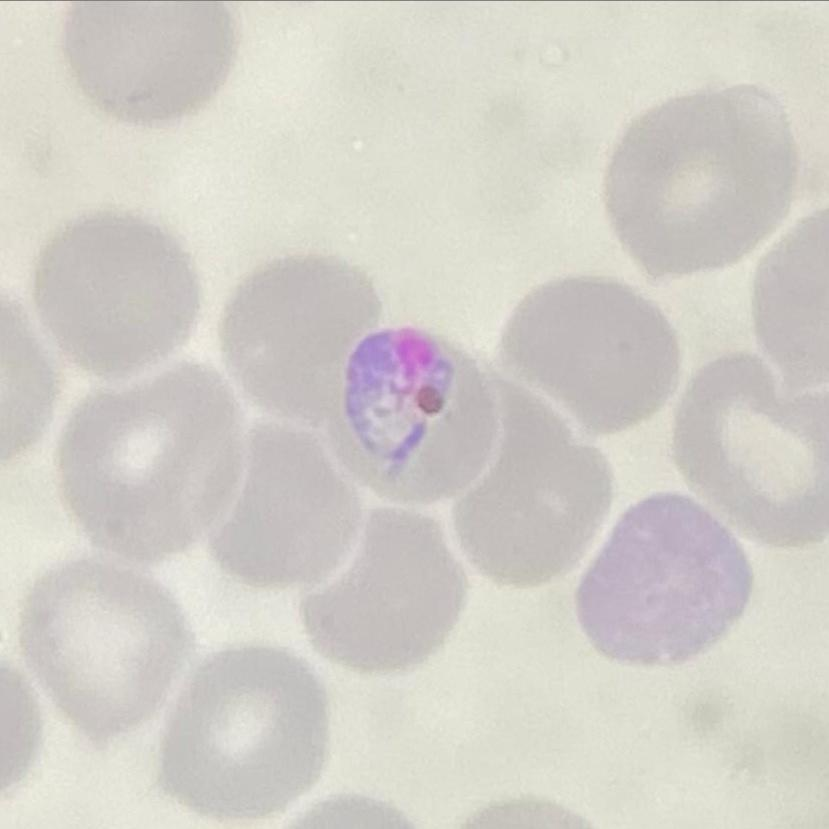Infected: (325, 327, 503, 507)
Uninfected: (606, 86, 795, 275), (58, 367, 243, 560), (20, 557, 193, 745), (455, 386, 611, 586), (673, 355, 827, 547), (578, 494, 748, 666), (31, 213, 202, 379), (161, 649, 331, 814), (508, 279, 686, 435), (222, 256, 383, 424), (302, 512, 466, 675), (211, 425, 367, 592), (61, 3, 236, 123)
